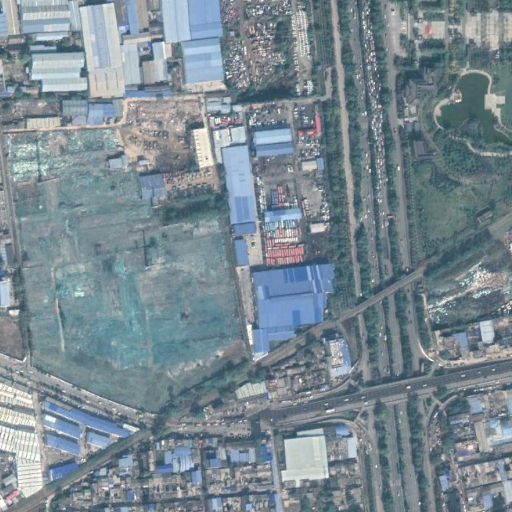cw: (10, 97, 244, 412)
